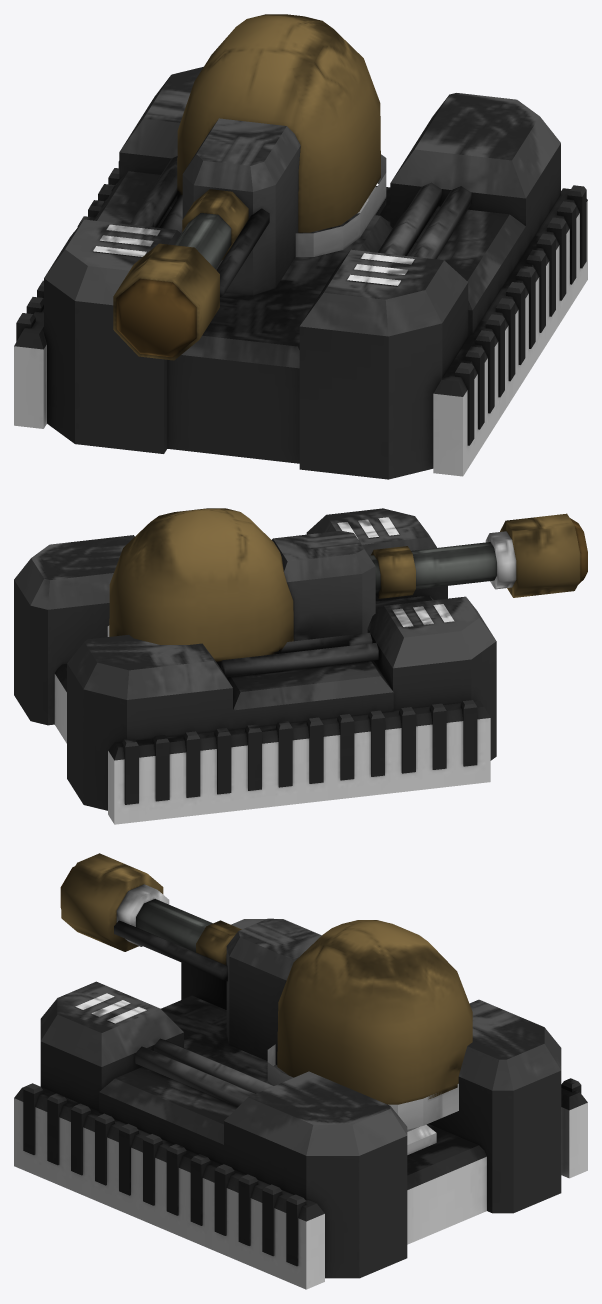
The model's file is newshp-13-f6.glb.
The picture shows the model from 3 angles, top to bottom: view 1: azimuth 30°, elevation 25°; view 2: azimuth 150°, elevation 25°; view 3: azimuth 270°, elevation 25°; orthographic projection. The views are drawn at different scales.
Parts seen in each view (by area): view 1: newshp-13-f6; view 2: newshp-13-f6; view 3: newshp-13-f6.
Boxes of the visible parts, box(x1,y1,x2,y2) form: newshp-13-f6: box(14, 14, 587, 479); newshp-13-f6: box(14, 508, 587, 824); newshp-13-f6: box(14, 853, 587, 1289).
Bounding box in the file's own units: 1.29 × 0.6167 × 1.27.
14 materials, 14 textured.
